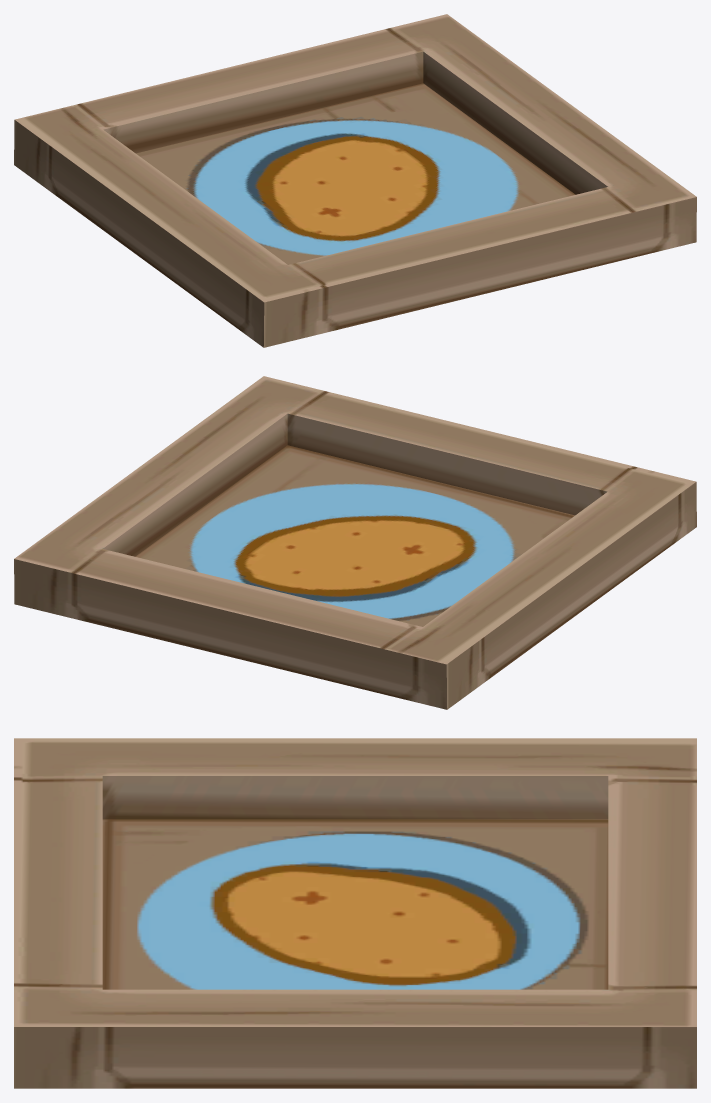
Rendered from CrateLid_potatoe.obj.
The picture shows the model from 3 angles, top to bottom: view 1: azimuth 30°, elevation 25°; view 2: azimuth 150°, elevation 25°; view 3: azimuth 270°, elevation 25°; orthographic projection. The views are drawn at different scales.
Visible parts, largest first — view 1: CrateLid_mesh-sharedassets2.assets-136; view 2: CrateLid_mesh-sharedassets2.assets-136; view 3: CrateLid_mesh-sharedassets2.assets-136.
Boxes of the visible parts, left/top/right/bottom form: CrateLid_mesh-sharedassets2.assets-136: left=14, top=14, right=696, bottom=347; CrateLid_mesh-sharedassets2.assets-136: left=14, top=376, right=696, bottom=709; CrateLid_mesh-sharedassets2.assets-136: left=14, top=738, right=696, bottom=1088.
Size of the model in its own units: 1 by 0.1 by 1.
